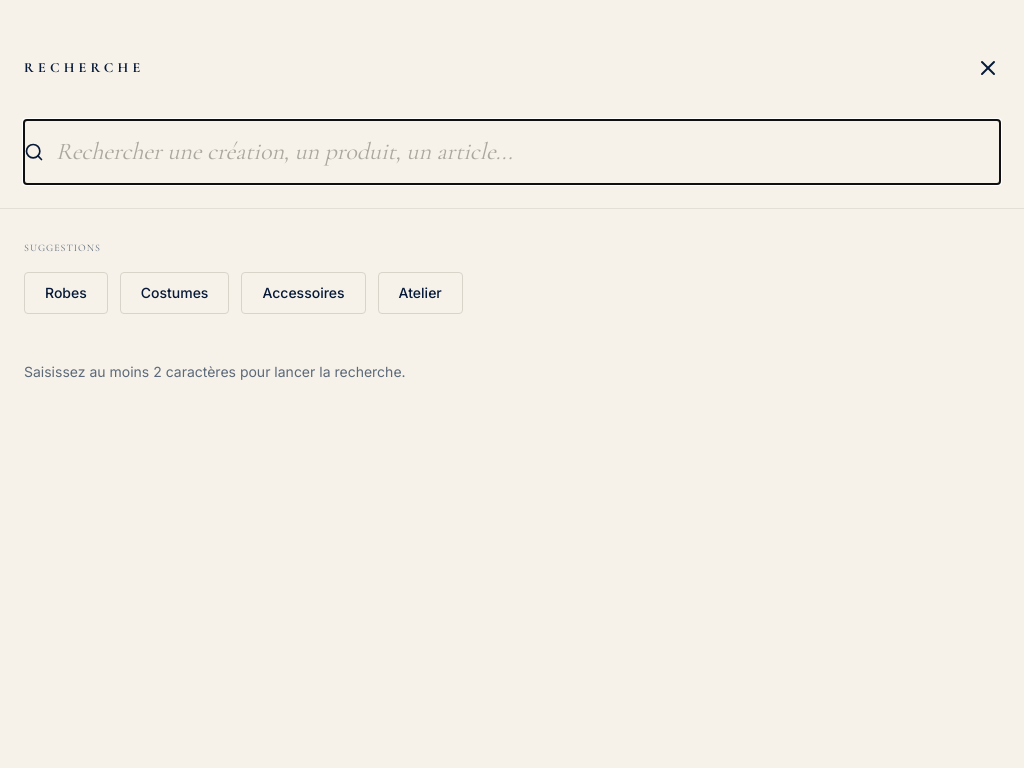
Scenario: MobileSearchOverlay › shows a no-results message when every group is empty
In the field labelled "Rechercher": coordinates (512, 152) [24,120,1000,184], type "zzz"
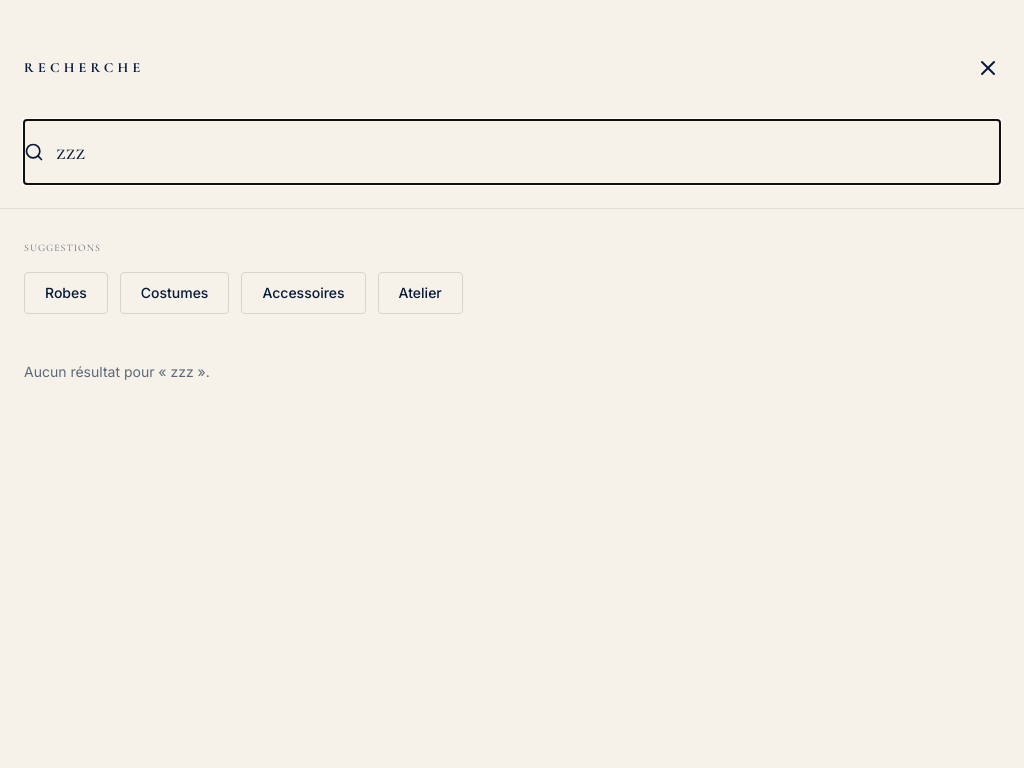
Check: the text "Aucun résultat pour « zzz »." is shown, box [24,363,210,380]
